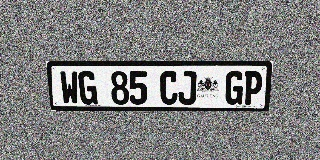5: (129, 71, 147, 105)
8: (110, 71, 129, 105)
C: (160, 71, 178, 105)
G: (224, 71, 244, 105), (78, 71, 98, 104)
J: (178, 71, 197, 105)
P: (243, 71, 263, 105)
W: (59, 71, 80, 104)
